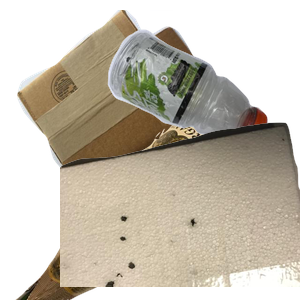cardboard: (14, 10, 222, 190)
glass: (13, 120, 253, 300)
plastic: (105, 27, 300, 162)
trash: (60, 120, 300, 300)
